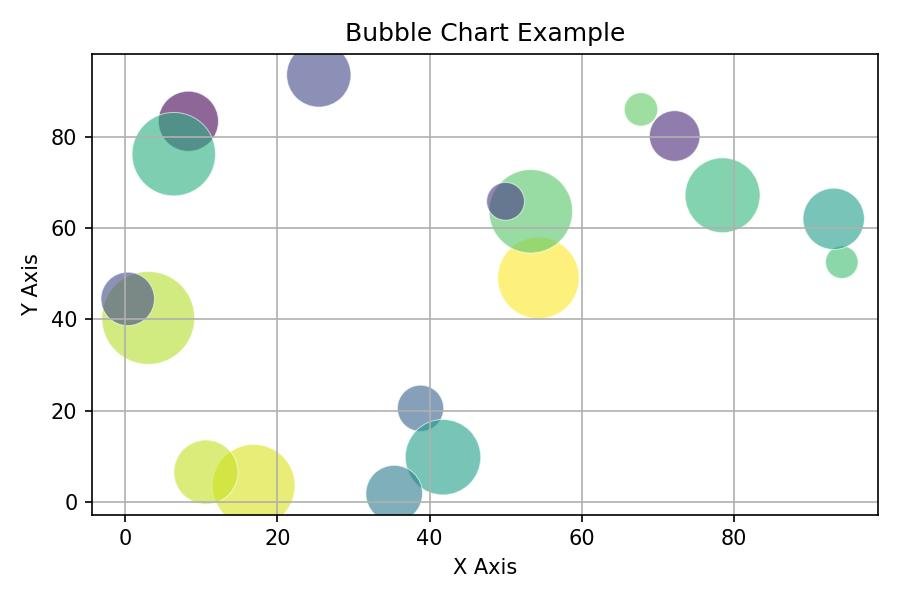axis: (76, 504, 890, 551), (45, 45, 102, 549)
circle: (99, 272, 198, 366), (485, 167, 575, 251), (499, 238, 585, 321), (131, 114, 215, 193), (405, 417, 482, 495), (215, 443, 297, 515), (684, 160, 760, 233), (175, 440, 237, 504), (806, 188, 867, 251), (284, 51, 350, 103), (163, 88, 219, 149), (100, 271, 157, 325), (648, 110, 703, 161), (399, 384, 446, 435), (488, 181, 525, 219), (624, 88, 659, 128), (827, 244, 859, 278)
